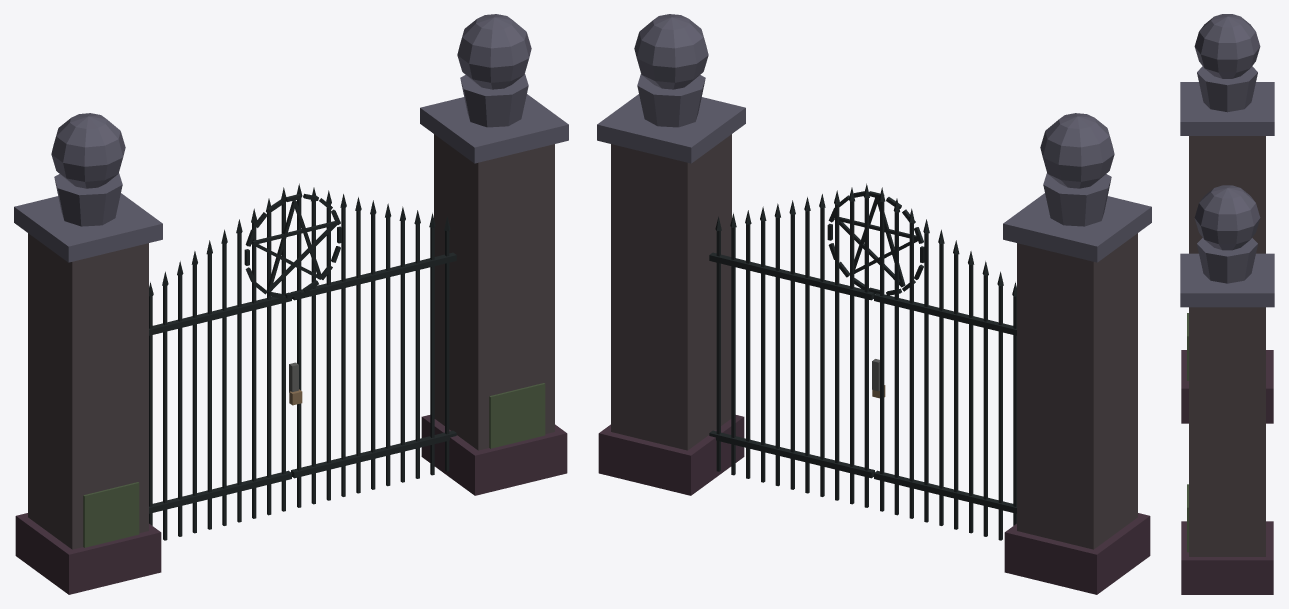
File: poarta_conac.glb
3 renders of one model, left to right at view 1: azimuth 30°, elevation 25°; view 2: azimuth 150°, elevation 25°; view 3: azimuth 270°, elevation 25°, orthographic. The views are drawn at different scales.
Visible parts, largest first — view 1: Poarta; view 2: Poarta; view 3: Poarta.
Part boxes in pixels (x1,y1,x2,y2): Poarta: [14, 14, 568, 594]; Poarta: [597, 14, 1151, 594]; Poarta: [1180, 14, 1274, 594].
Bounding box in the file's own units: 4.56 × 3.9 × 0.86.
